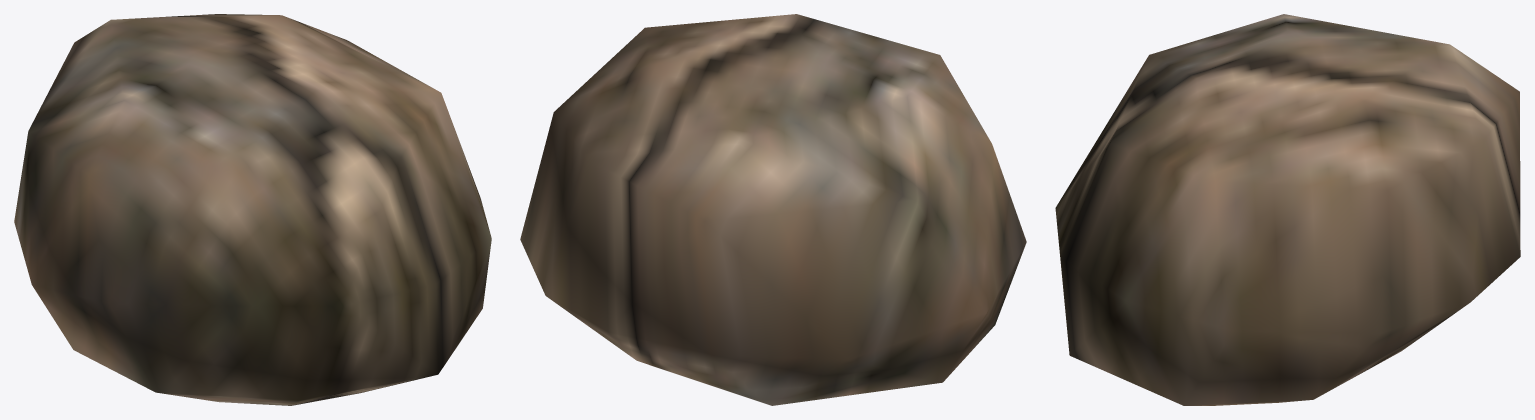
Rendered from TROLL_THROWING_ROCK.fbx.
The picture shows the model from 3 angles, left to right: view 1: azimuth 30°, elevation 25°; view 2: azimuth 150°, elevation 25°; view 3: azimuth 270°, elevation 25°; orthographic projection. The views are drawn at different scales.
Visible parts, largest first — view 1: TROLL_THROWING_ROCK; view 2: TROLL_THROWING_ROCK; view 3: TROLL_THROWING_ROCK.
Part boxes in pixels (x1,y1,x2,y2): TROLL_THROWING_ROCK: [14, 14, 491, 405]; TROLL_THROWING_ROCK: [520, 14, 1026, 405]; TROLL_THROWING_ROCK: [1055, 14, 1520, 405].
Bounding box in the file's own units: 3151 × 2309 × 3104.
Materials: 1 (1 with a texture image).
